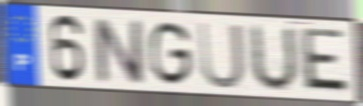6: (47, 13, 86, 84)
E: (301, 26, 352, 97)
G: (148, 19, 195, 88)
N: (90, 15, 148, 86)
U: (196, 20, 248, 92), (249, 22, 301, 94)
